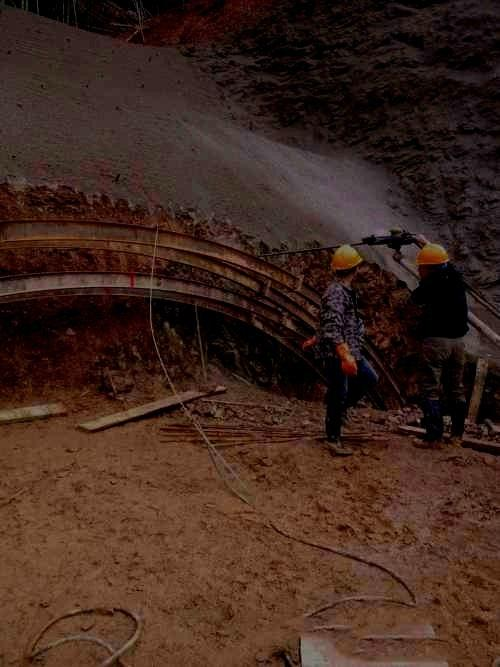helmet: (415, 242, 450, 281), (330, 243, 362, 282)
